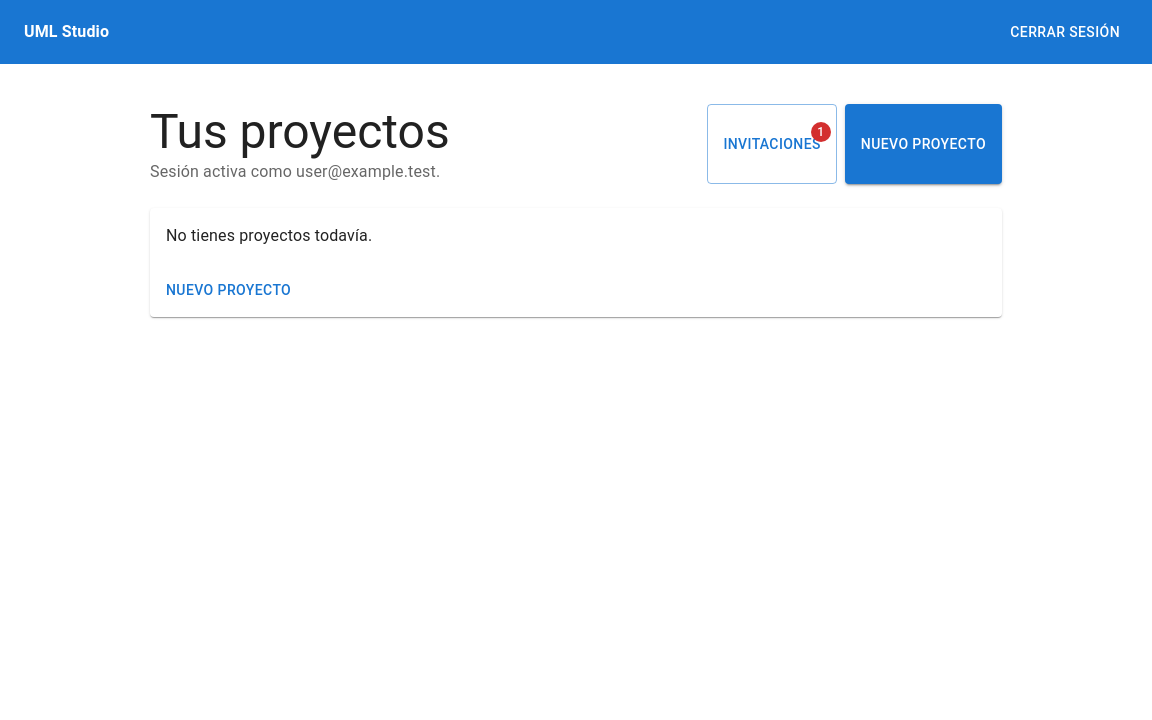
gestión de proyectos › muestra badge, carga la bandeja y acepta sin refresco manual
This screenshot has width=1152, height=720.
Check: the text "1" is shown, box [811,122,831,142]
What coordinates should you click on to do the following:
click the button "Invitaciones 1"
I would click on:
 (772, 144)
Its box is [707,104,837,184].
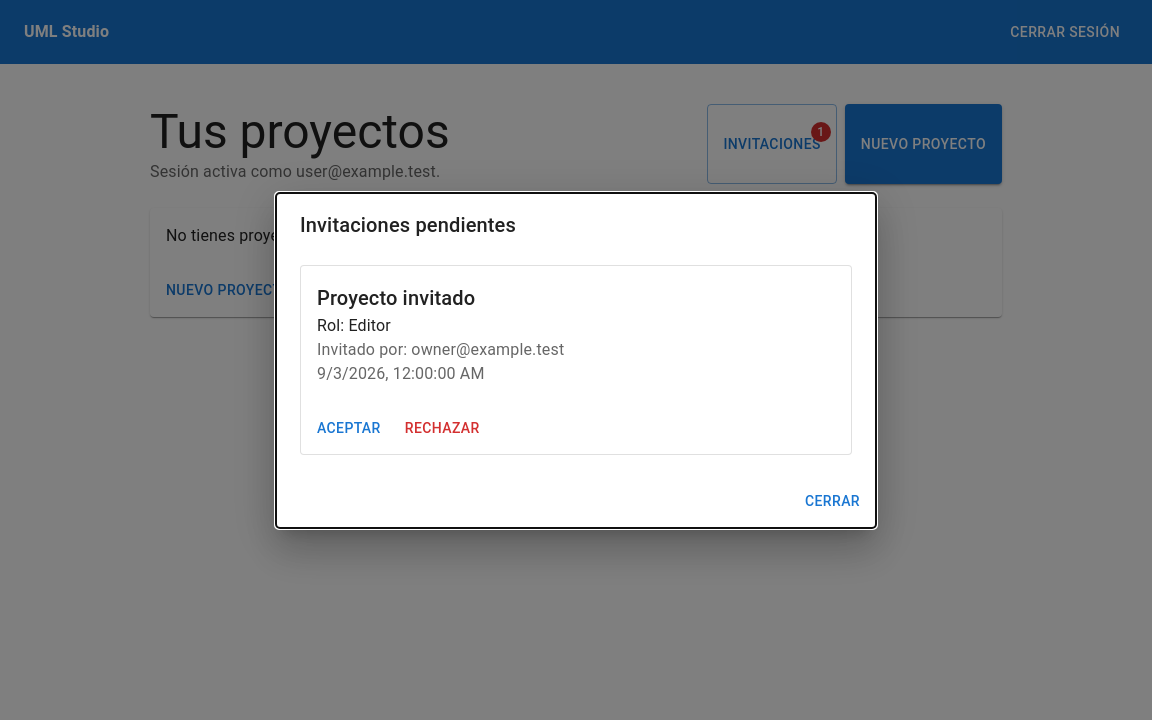
Check: the heading "Proyecto invitado" is shown, box [317,286,475,310]
Check: the text "Rol: Editor" is shown, box [317,316,391,334]
What coordinates should you click on to do the following:
click the button "Aceptar"
I would click on:
 (349, 428)
Its box is [309,410,389,446].
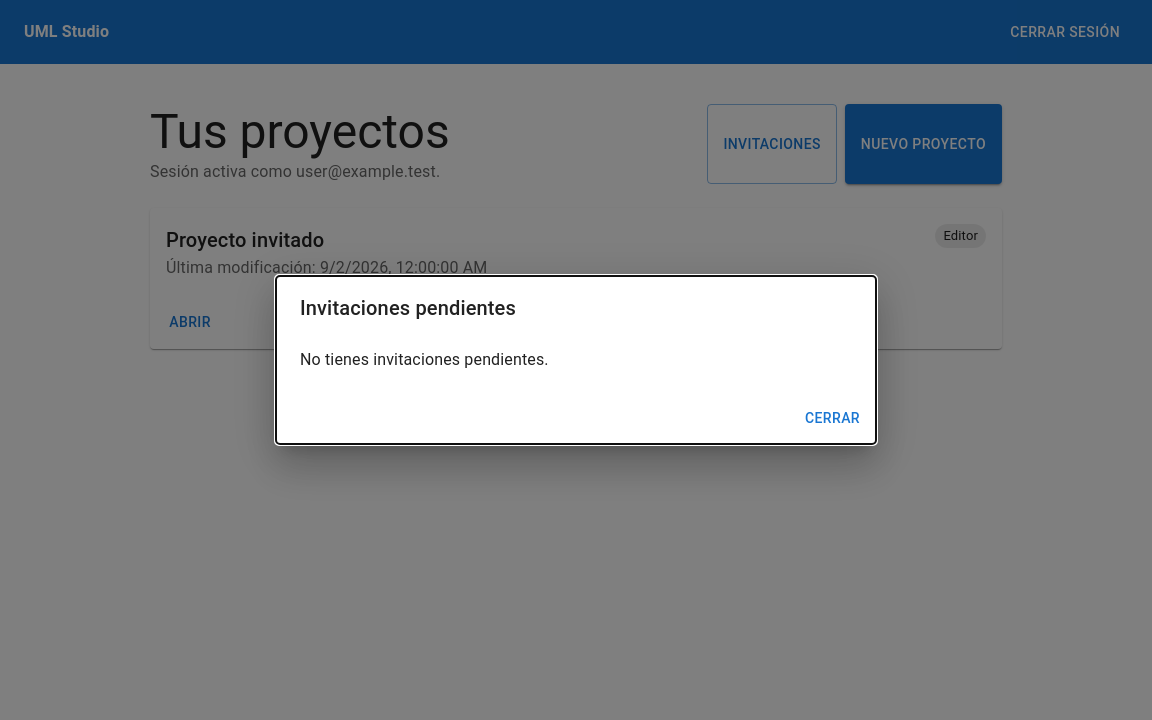
Check: the text "Editor" is shown, box [943,228,978,243]
Check: the text "No tienes invitaciones pendientes." is shown, box [300,350,549,369]
